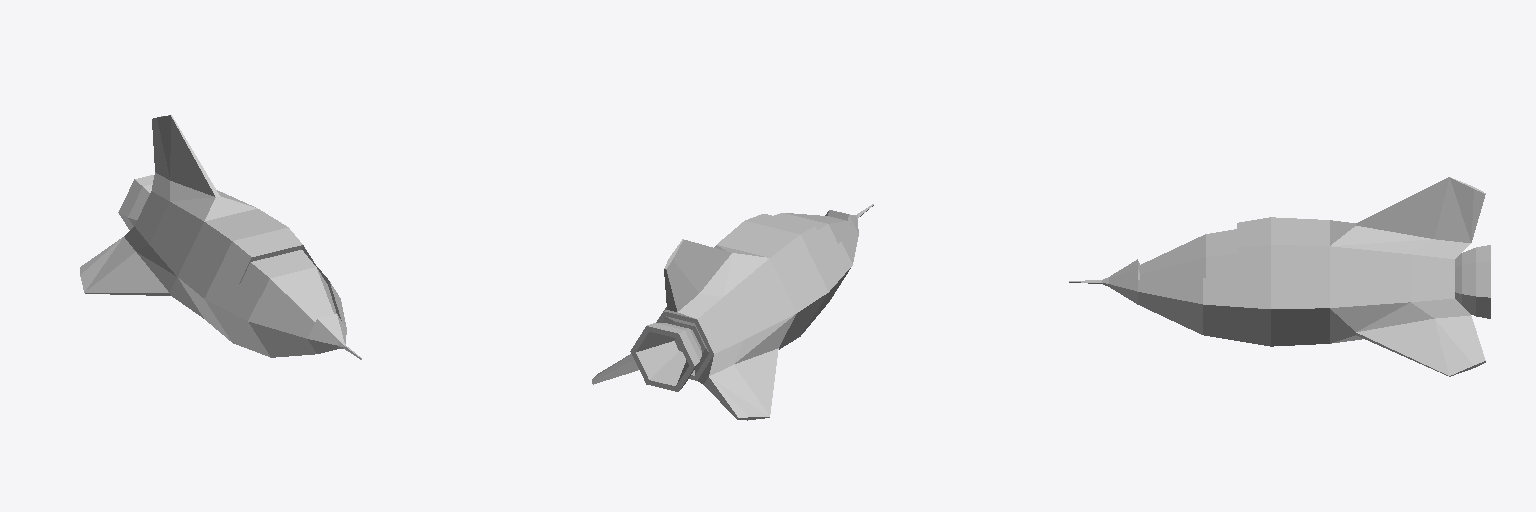
File: RocketShip.obj
The picture shows the model from 3 angles: view 1: azimuth 30°, elevation 25°; view 2: azimuth 150°, elevation 25°; view 3: azimuth 270°, elevation 25°; orthographic projection.
Parts seen in each view (by area): view 1: 000_Monocoque, 002_Wings, 003_Glass; view 2: 000_Monocoque, 002_Wings, 001_Light, 003_Glass; view 3: 000_Monocoque, 002_Wings, 003_Glass.
Boxes of the visible parts, <box> form: 000_Monocoque: <box>124,172,346,357</box>; 002_Wings: <box>80,115,361,359</box>; 003_Glass: <box>240,250,336,327</box>; 000_Monocoque: <box>656,210,858,384</box>; 002_Wings: <box>592,204,873,420</box>; 001_Light: <box>636,332,688,385</box>; 003_Glass: <box>774,213,850,251</box>; 000_Monocoque: <box>1109,217,1470,346</box>; 002_Wings: <box>1069,177,1490,376</box>; 003_Glass: <box>1140,229,1236,279</box>.
Size of the model in its own units: 88.39 by 76.55 by 186.